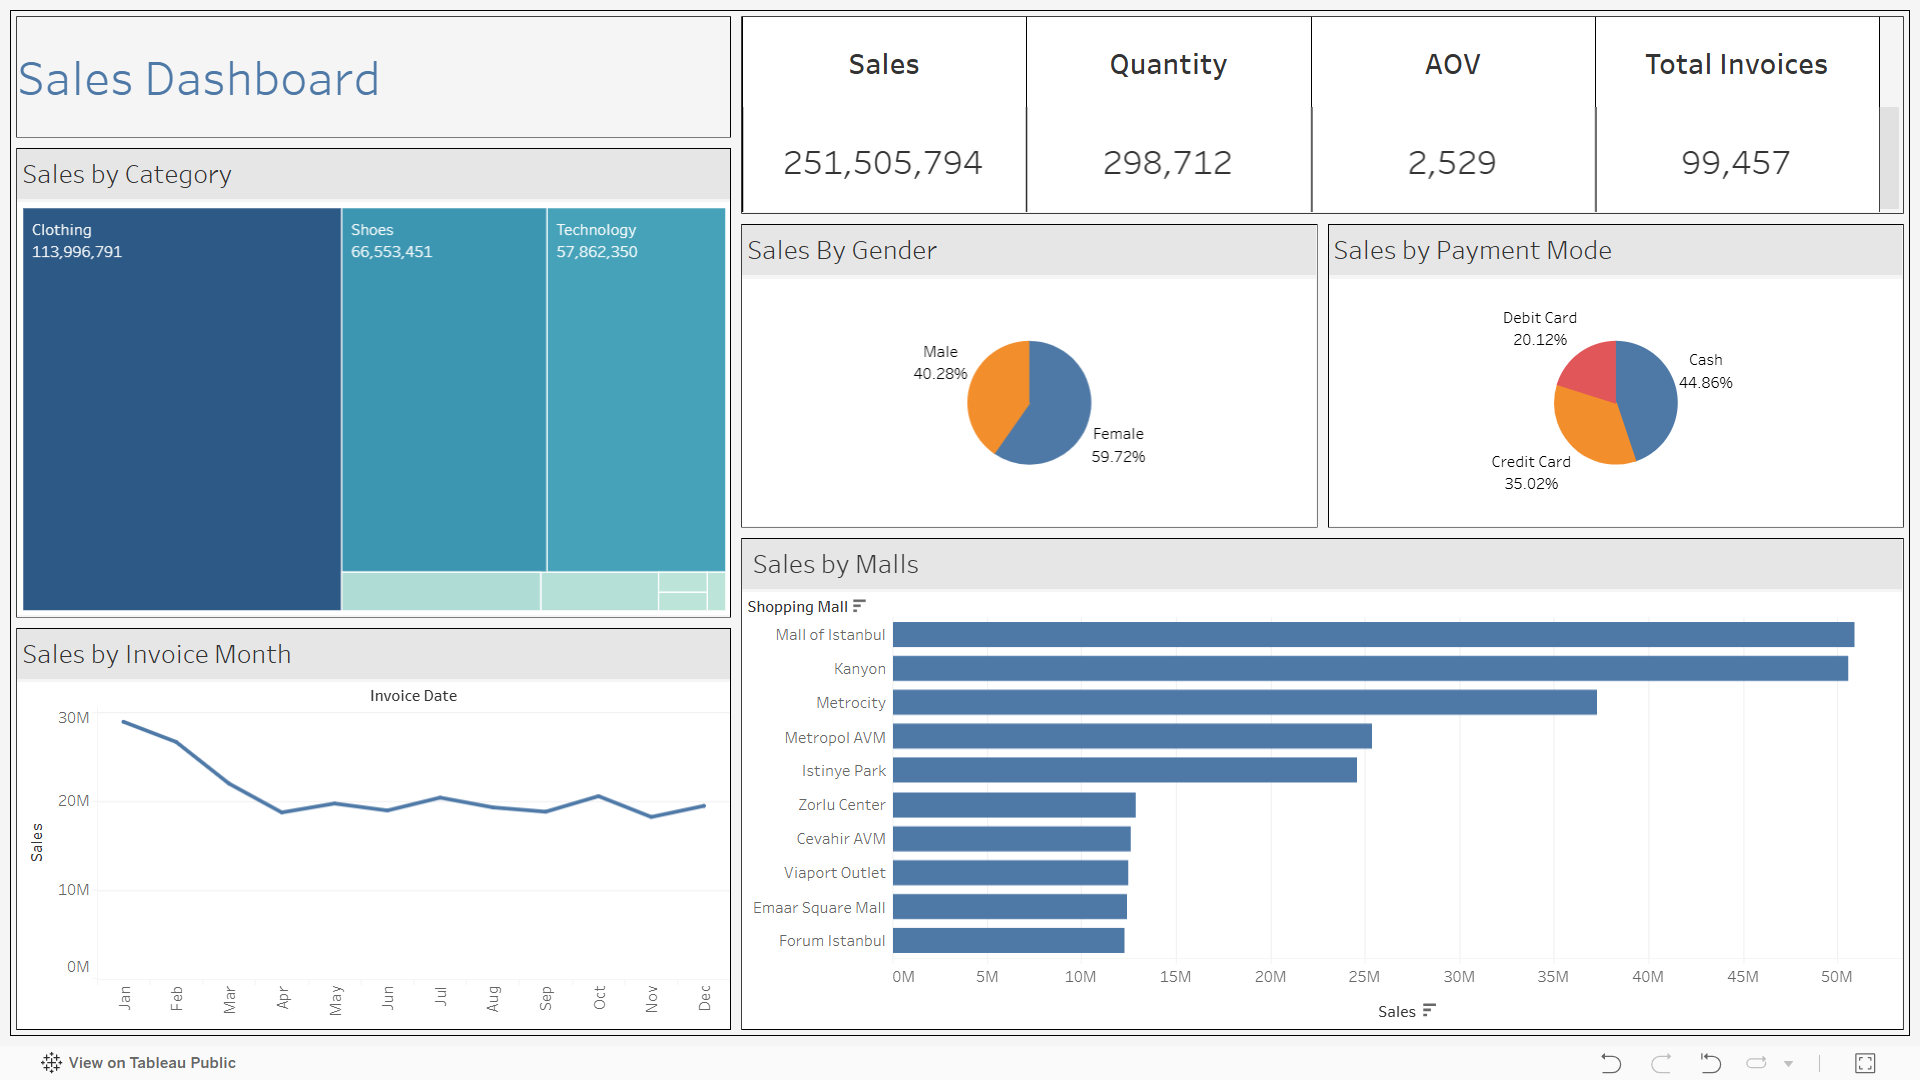

What the dashboard file says about the page in this screenshot:
{"tool":"tableau","page":{"name":"Dashboard","canvas":[1000,1000],"units":"permille","ordinal":0},"visuals":[{"type":"text","box":[4.8,10.6,378.3,125.4]},{"type":"worksheet","title":"KPI","mark":"Automatic","box":[383,10.6,612.2,195.1]},{"type":"worksheet","title":"Sales by Category","mark":"Automatic","box":[4.8,135.9,378.3,451.2]},{"type":"worksheet","title":"Sales By Gender","mark":"Pie","box":[383,205.6,306.1,294.9]},{"type":"worksheet","title":"Sales by Payment Mode","mark":"Pie","box":[689.1,205.6,306.1,294.9]},{"type":"worksheet","title":" Sales by Malls","mark":"Automatic","rows":["shopping_mall"],"cols":["Calculation_0206165909889024"],"box":[383,500.6,612.2,488.8]},{"type":"worksheet","title":"Sales by Invoice Month","mark":"Automatic","rows":["Calculation_0206165909889024"],"cols":["invoice_date"],"box":[4.8,587.2,378.3,402.2]}]}

Visuals, with their boxes on the dashboard's canvas, which has no fixed pixel size, in thousandths of its width and height (x1, y1, x2, y2). These are canvas units, not pixel positions in the 1920x1080 screenshot, which may show the page scaled, cropped or inside an application window:
text: left=5, top=11, right=383, bottom=136
"KPI" worksheet: left=383, top=11, right=995, bottom=206
"Sales by Category" worksheet: left=5, top=136, right=383, bottom=587
"Sales By Gender" worksheet (Pie marks): left=383, top=206, right=689, bottom=500
"Sales by Payment Mode" worksheet (Pie marks): left=689, top=206, right=995, bottom=500
" Sales by Malls" worksheet: left=383, top=501, right=995, bottom=989
"Sales by Invoice Month" worksheet: left=5, top=587, right=383, bottom=989
